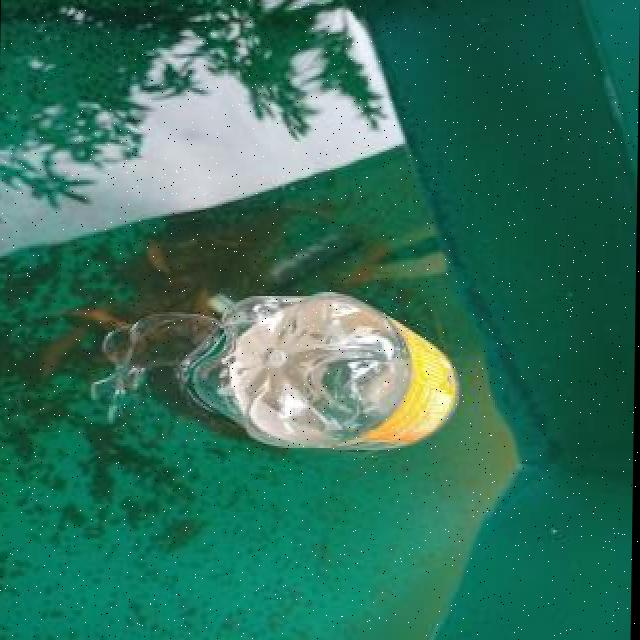bottle: (186, 290, 466, 452)
